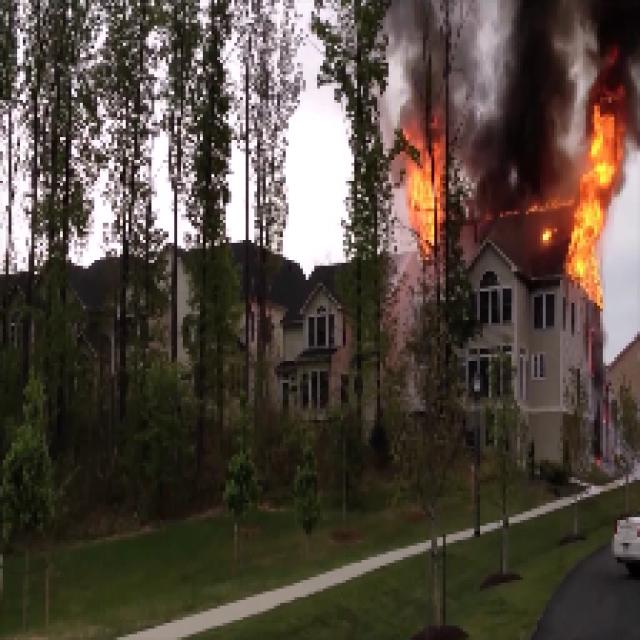fire: (576, 108, 610, 290)
smoke: (491, 4, 564, 197), (584, 7, 630, 101)
